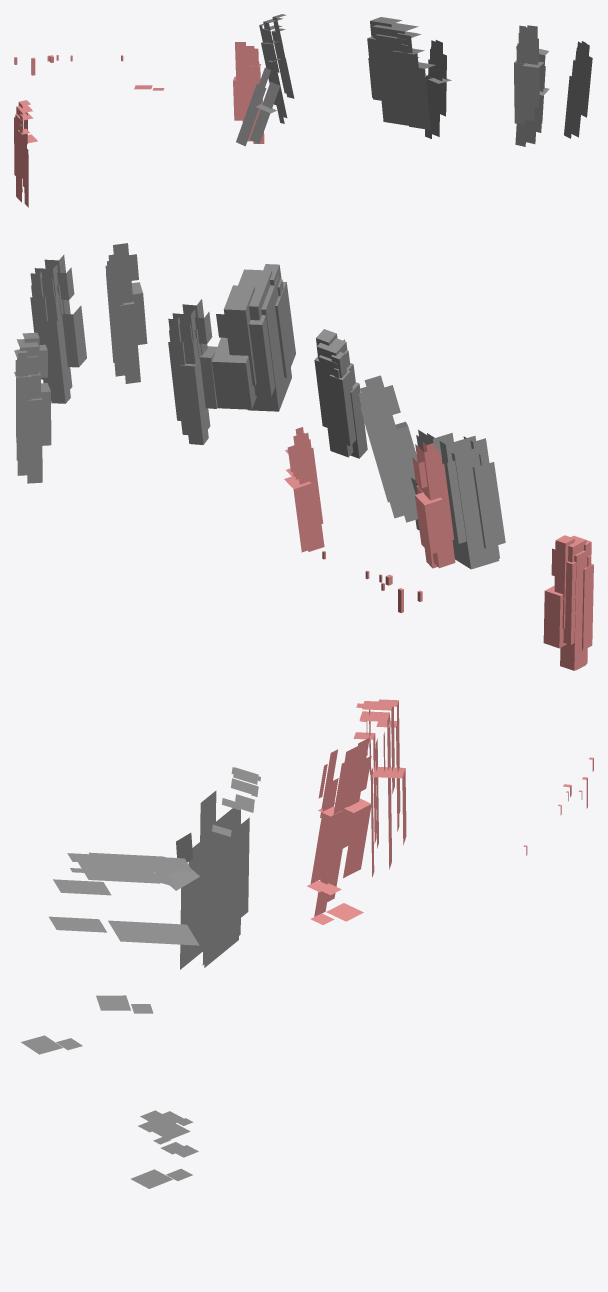
The model's file is S_Envi_FZFBase_Merge_01a.gltf.
3 views of the same model, one above another, from view 1: azimuth 30°, elevation 25°; view 2: azimuth 150°, elevation 25°; view 3: azimuth 270°, elevation 25° (orthographic). The views are drawn at different scales.
Parts seen in each view (by area): view 1: S_Envi_FZFBase_Merge_01a; view 2: S_Envi_FZFBase_Merge_01a; view 3: S_Envi_FZFBase_Merge_01a.
Boxes of the visible parts, x1,y1,x2,y2 form: S_Envi_FZFBase_Merge_01a: (14,14,592,207); S_Envi_FZFBase_Merge_01a: (14,243,593,670); S_Envi_FZFBase_Merge_01a: (21,699,593,1188).
Size of the model in its own units: 568 by 193 by 328.
